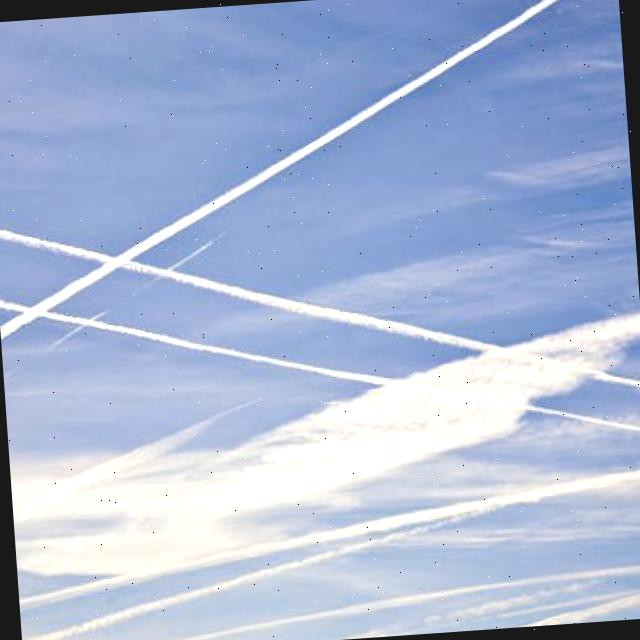Ct: (1, 1, 640, 417)
